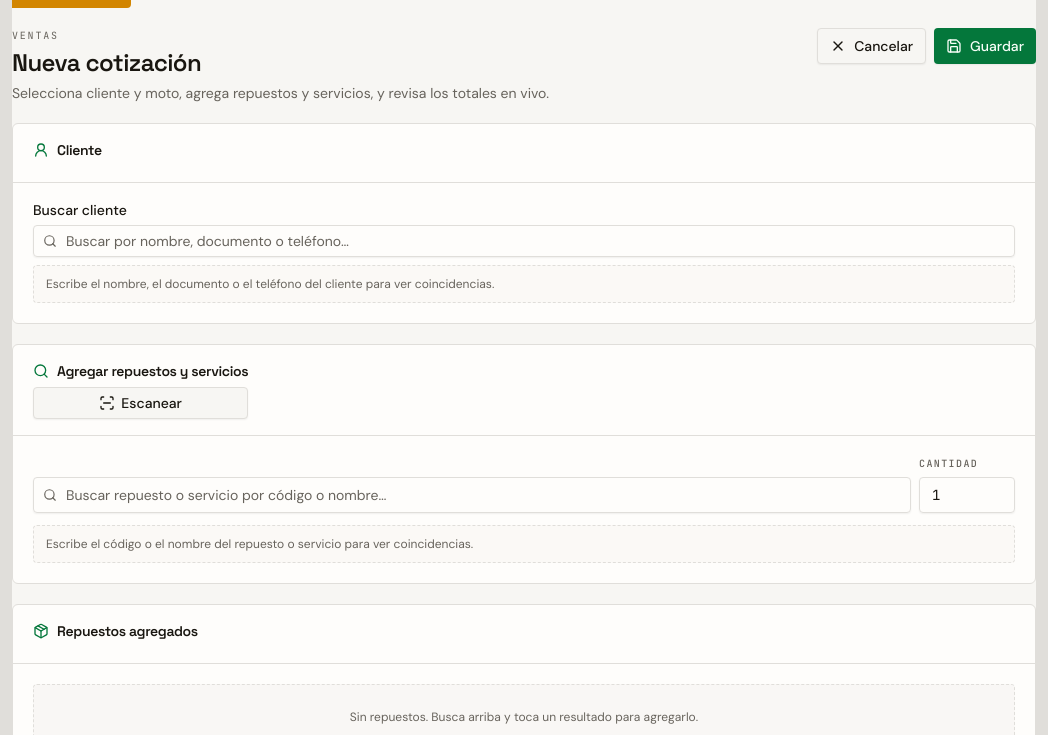
Scenario: QuoteDetailPage new-quote unified search › still lists and selects a service after searching
Expected: the heading "Nueva cotización" is shown, [12,47,201,78]
Type "aceite" into the search field with test id "quote_detail.item_search_input" at (472, 495), box [33,477,911,513]
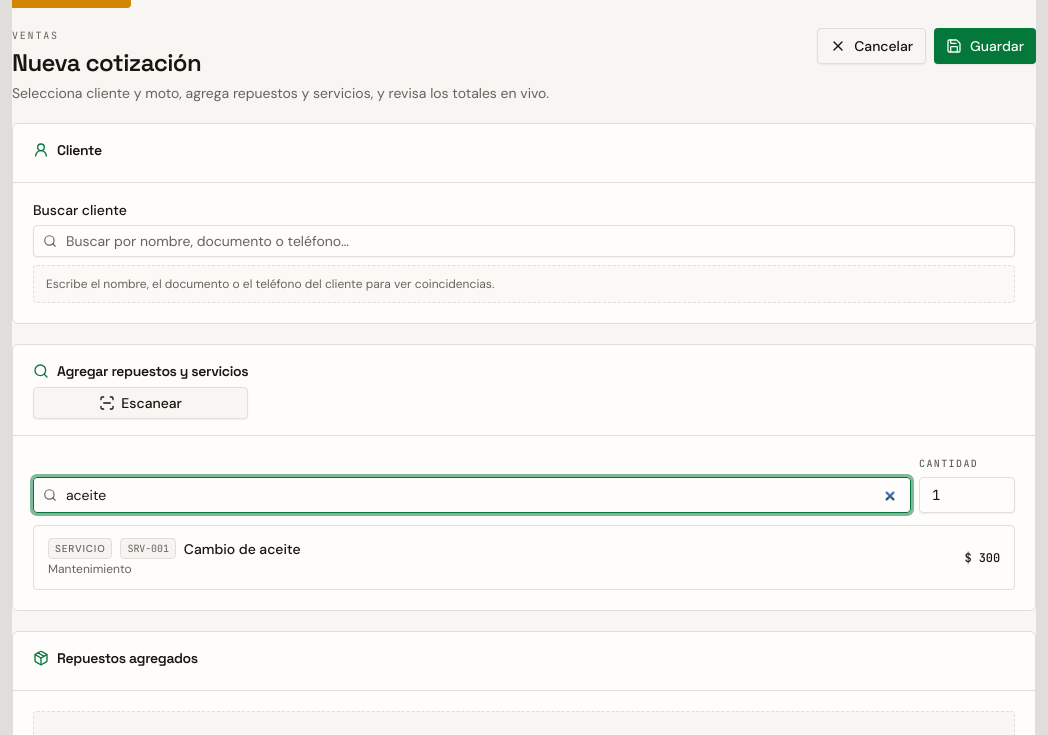
Result: the text "Cambio de aceite" is shown at [184,538,300,558]
Click the button with test id "quote_detail.item_search.item.1" at (80, 548), box [38,530,1010,585]
(page scrolled)
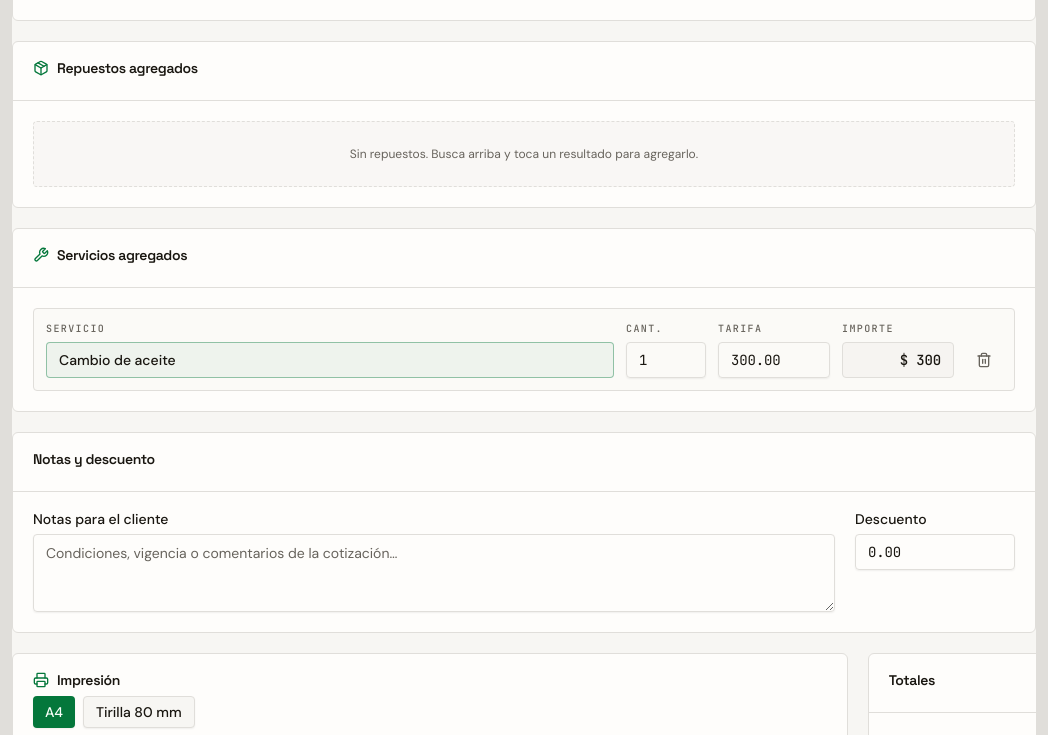
Result: the element with test id "quote_detail.service_selected.1" reads "Cambio de aceite" at [59,351,176,369]
